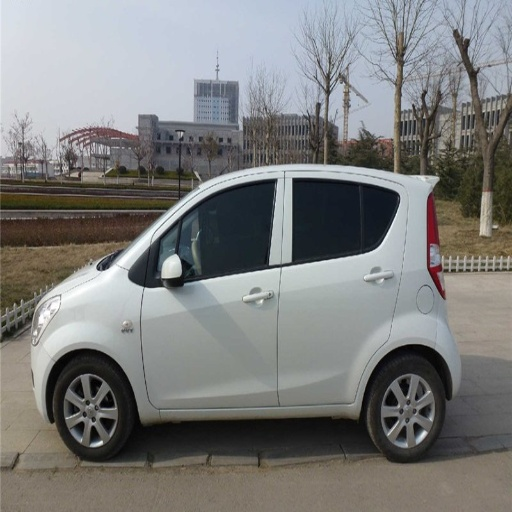back_left_door: (279, 172, 402, 404)
front_left_door: (141, 173, 284, 411)
